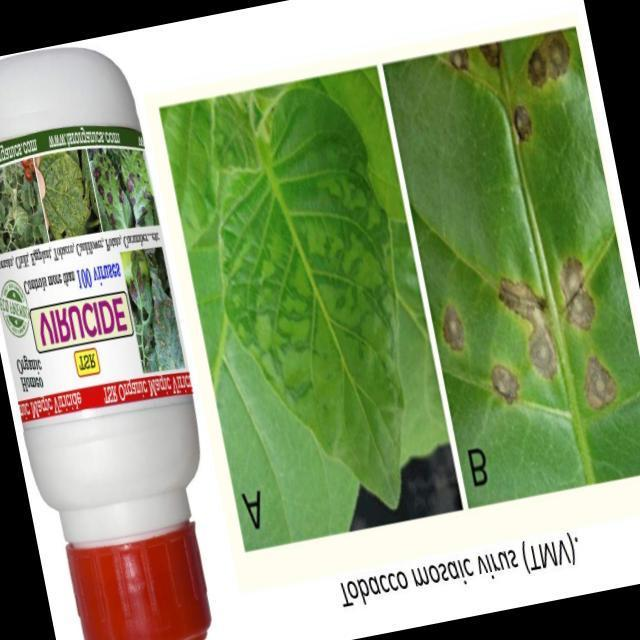Mosaic Virus: (194, 86, 436, 526)
